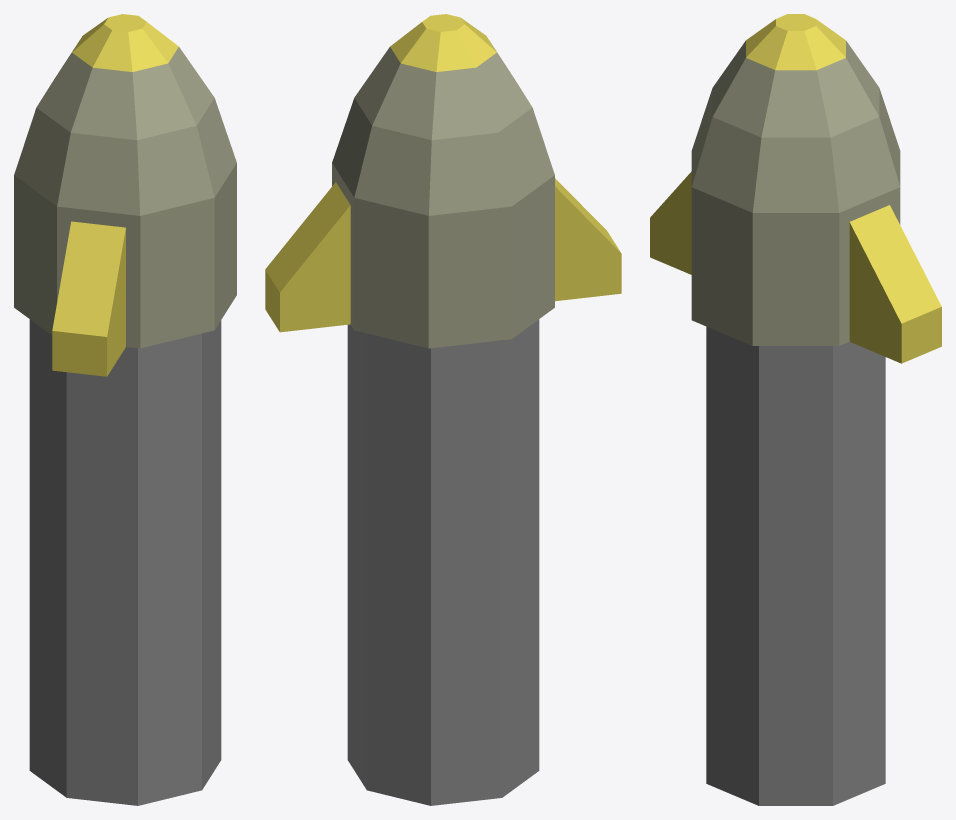
The model's file is ammo_rocketmodern.fbx.
3 views of the same model, side by side, from view 1: azimuth 30°, elevation 25°; view 2: azimuth 150°, elevation 25°; view 3: azimuth 270°, elevation 25° (orthographic).
Parts seen in each view (by area): view 1: imagetostl_mesh8, imagetostl_mesh1, imagetostl_mesh7, imagetostl_mesh29, imagetostl_mesh2, imagetostl_mesh27, imagetostl_mesh53, imagetostl_mesh42, imagetostl_mesh50, imagetostl_mesh54, imagetostl_mesh22, imagetostl_mesh49 (+12 smaller); view 2: imagetostl_mesh6, imagetostl_mesh5, imagetostl_mesh7, imagetostl_mesh41, imagetostl_mesh40, imagetostl_mesh4, imagetostl_mesh65, imagetostl_mesh42, imagetostl_mesh36, imagetostl_mesh64, imagetostl_mesh23, imagetostl_mesh62 (+10 smaller); view 3: imagetostl_mesh3, imagetostl_mesh2, imagetostl_mesh4, imagetostl_mesh31, imagetostl_mesh30, imagetostl_mesh52, imagetostl_mesh37, imagetostl_mesh44, imagetostl_mesh51, imagetostl_mesh33, imagetostl_mesh47, imagetostl_mesh26 (+12 smaller).
Boxes of the visible parts, x1,y1,x2,y2 form: imagetostl_mesh8: (66,347,137,805); imagetostl_mesh1: (138,333,201,805); imagetostl_mesh7: (29,319,66,797); imagetostl_mesh29: (140,198,214,348); imagetostl_mesh2: (202,320,221,789); imagetostl_mesh27: (52,221,125,336); imagetostl_mesh53: (57,132,139,215); imagetostl_mesh42: (14,175,56,335); imagetostl_mesh50: (137,125,214,215); imagetostl_mesh54: (71,67,137,140); imagetostl_mesh22: (57,206,140,348); imagetostl_mesh49: (132,63,196,139); imagetostl_mesh6: (431,340,502,805); imagetostl_mesh5: (367,333,430,805); imagetostl_mesh7: (502,319,539,797); imagetostl_mesh41: (428,206,511,348); imagetostl_mesh40: (354,198,428,348); imagetostl_mesh4: (347,324,366,789); imagetostl_mesh65: (429,132,511,215); imagetostl_mesh42: (512,175,554,338); imagetostl_mesh36: (280,205,350,332); imagetostl_mesh64: (354,125,431,215); imagetostl_mesh23: (555,186,621,301); imagetostl_mesh62: (431,67,497,140); imagetostl_mesh3: (759,346,832,805); imagetostl_mesh2: (706,326,758,805); imagetostl_mesh4: (833,342,885,805); imagetostl_mesh31: (752,213,839,345); imagetostl_mesh30: (691,187,752,345); imagetostl_mesh52: (753,137,838,212); imagetostl_mesh37: (850,205,941,323); imagetostl_mesh44: (830,117,899,212); imagetostl_mesh51: (692,117,761,212); imagetostl_mesh33: (849,222,901,363); imagetostl_mesh47: (761,70,830,137); imagetostl_mesh26: (650,171,691,274).
Bounding box in the file's own units: 1.19 × 3.36 × 1.19.
